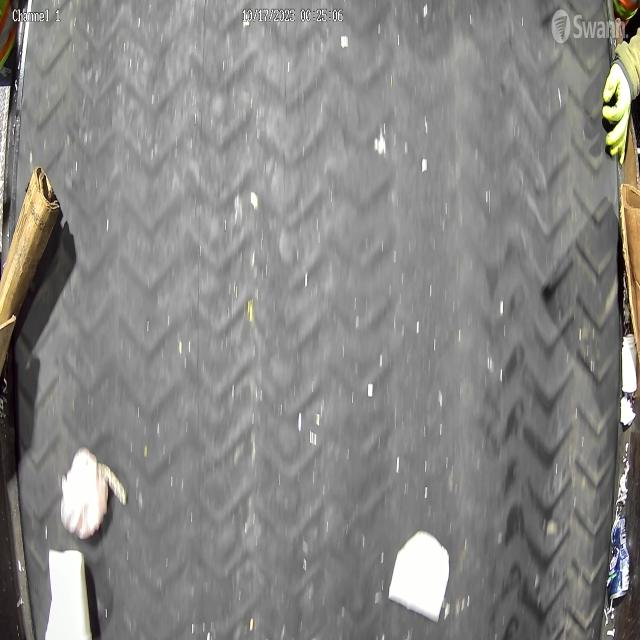can: (609, 512, 630, 601)
